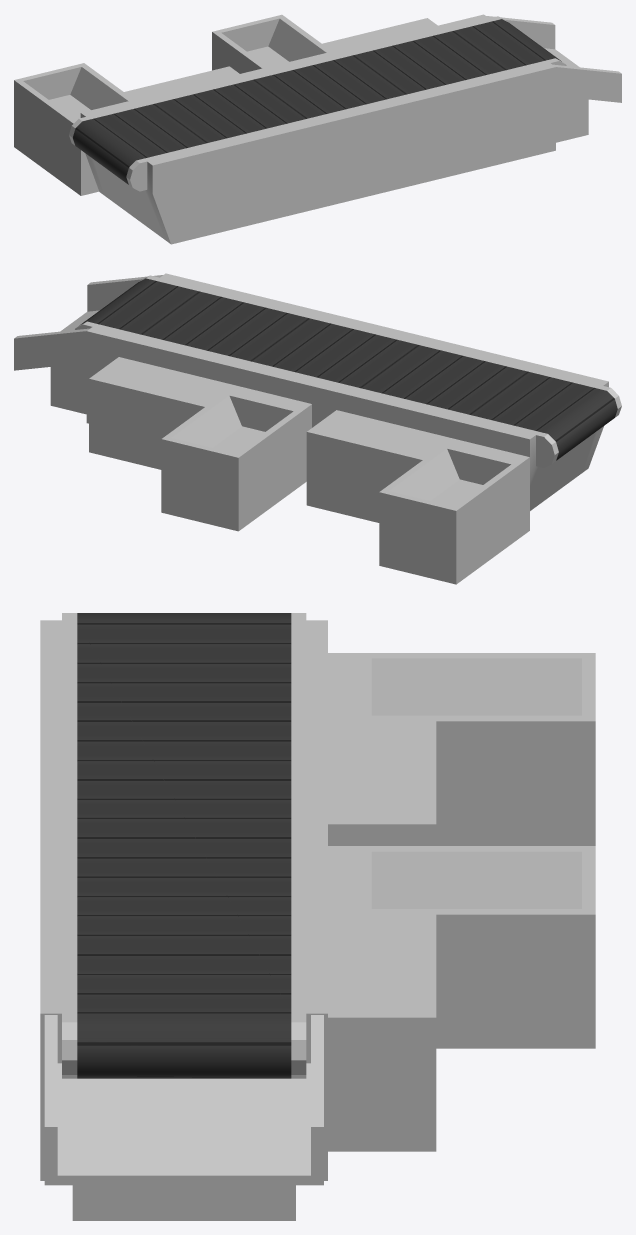
The model's file is stanok chistka.fbx.
3 renders of one model, top to bottom at view 1: azimuth 30°, elevation 25°; view 2: azimuth 150°, elevation 25°; view 3: azimuth 270°, elevation 25°, orthographic. The views are drawn at different scales.
Visible parts, largest first — view 1: Cylinder014, Object013; view 2: Cylinder014, Object013; view 3: Cylinder014, Object013.
Part boxes in pixels (x1,y1,x2,y2): Cylinder014: [14, 14, 621, 244]; Object013: [73, 19, 561, 184]; Cylinder014: [14, 273, 621, 584]; Object013: [80, 278, 617, 460]; Cylinder014: [40, 613, 595, 1220]; Object013: [77, 613, 291, 1078].
Size of the model in its own units: 188 by 30.79 by 92.6.
